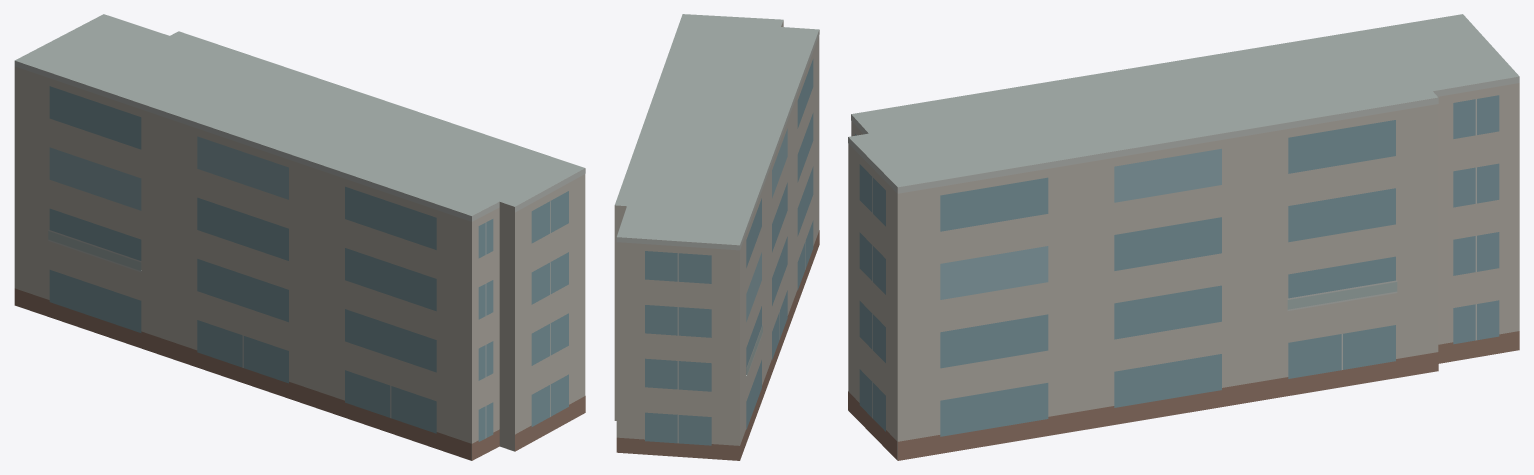
The model's file is survey-upis-32732757.glb.
The picture shows the model from 3 angles, left to right: view 1: azimuth 30°, elevation 25°; view 2: azimuth 150°, elevation 25°; view 3: azimuth 270°, elevation 25°; orthographic projection. The views are drawn at different scales.
Parts seen in each view (by area): view 1: survey-upis-32732757.tmp; view 2: survey-upis-32732757.tmp; view 3: survey-upis-32732757.tmp.
Part boxes in pixels (x1=…): survey-upis-32732757.tmp: x1=14, y1=14, x2=585, y2=460; survey-upis-32732757.tmp: x1=614, y1=14, x2=819, y2=460; survey-upis-32732757.tmp: x1=848, y1=14, x2=1519, y2=460.
Bounding box in the file's own units: 14.16 × 10.41 × 23.17.
